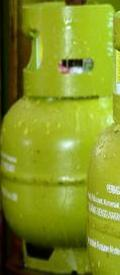cylinder: (1, 1, 120, 275)
